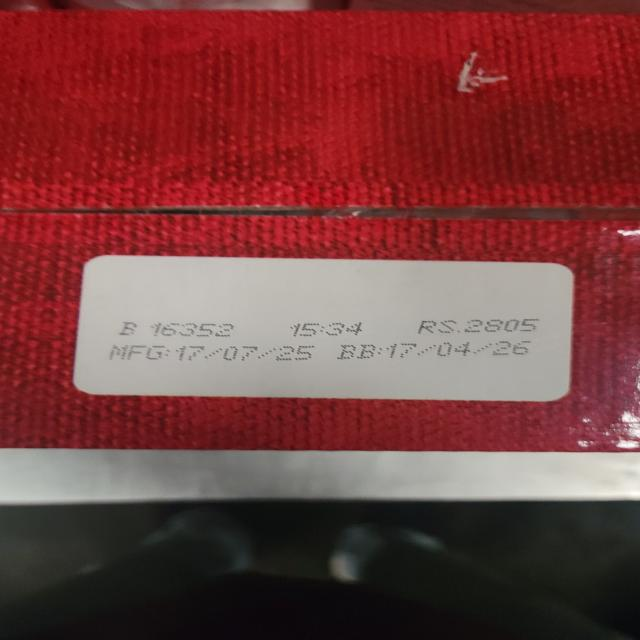BB: (338, 340, 533, 360)
Batch: (119, 321, 236, 337)
MFG: (110, 345, 314, 363)
RS: (416, 318, 542, 334)
TimeStamp: (286, 322, 364, 337)
